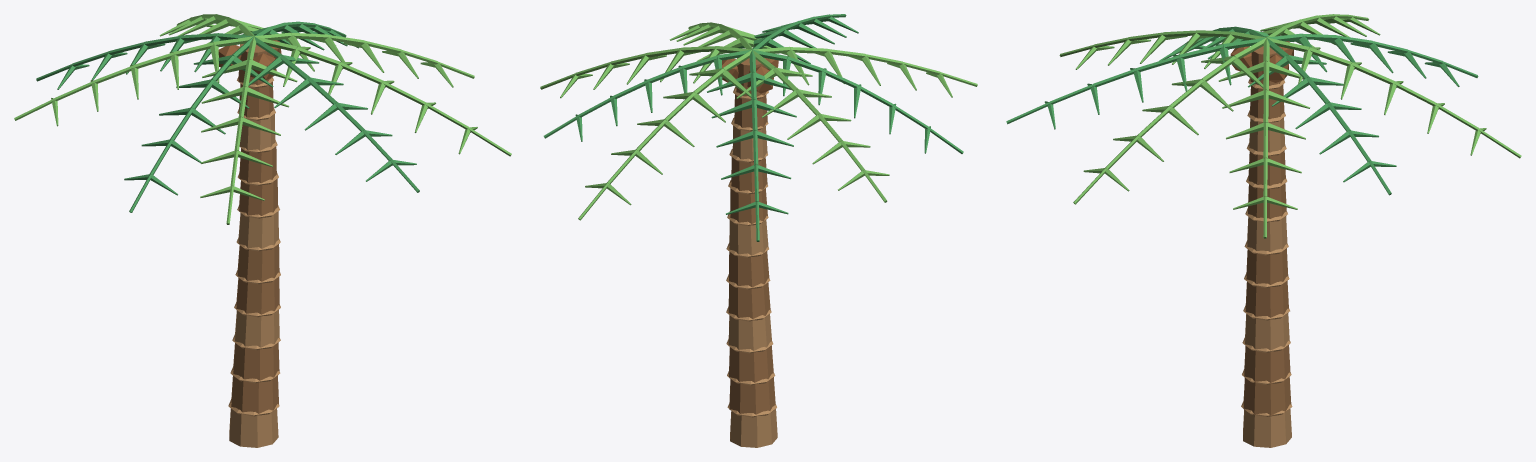
File: palmera.fbx
3 renders of one model, left to right at view 1: azimuth 30°, elevation 25°; view 2: azimuth 150°, elevation 25°; view 3: azimuth 270°, elevation 25°, orthographic. The views are drawn at different scales.
Parts seen in each view (by area): view 1: Tronco segmento 01, Tronco segmento 02, Tronco segmento 03, Tronco segmento 04, Tronco segmento 05, Tronco segmento 06, Tronco segmento 07, Tronco segmento 08, Tronco segmento 09, Tronco segmento 10, Tronco segmento 11; view 2: Tronco segmento 01, Tronco segmento 02, Tronco segmento 03, Tronco segmento 04, Tronco segmento 05, Tronco segmento 06, Tronco segmento 07, Tronco segmento 08, Tronco segmento 09, Tronco segmento 10, Tronco segmento 11; view 3: Tronco segmento 01, Tronco segmento 02, Tronco segmento 03, Tronco segmento 04, Tronco segmento 05, Tronco segmento 06, Tronco segmento 07, Tronco segmento 08, Tronco segmento 09, Tronco segmento 10, Tronco segmento 11.
Boxes of the visible parts, bbox=[...] form: Tronco segmento 01: bbox=[229, 408, 278, 447]; Tronco segmento 02: bbox=[231, 375, 278, 413]; Tronco segmento 03: bbox=[233, 342, 279, 380]; Tronco segmento 04: bbox=[235, 310, 279, 347]; Tronco segmento 05: bbox=[236, 277, 279, 314]; Tronco segmento 06: bbox=[237, 244, 279, 281]; Tronco segmento 07: bbox=[238, 211, 278, 248]; Tronco segmento 08: bbox=[239, 179, 277, 215]; Tronco segmento 09: bbox=[239, 146, 276, 183]; Tronco segmento 10: bbox=[239, 114, 275, 150]; Tronco segmento 11: bbox=[239, 82, 273, 117]; Tronco segmento 01: bbox=[730, 409, 777, 447]; Tronco segmento 02: bbox=[729, 377, 775, 414]; Tronco segmento 03: bbox=[729, 345, 773, 382]; Tronco segmento 04: bbox=[728, 314, 771, 350]; Tronco segmento 05: bbox=[728, 283, 770, 318]; Tronco segmento 06: bbox=[729, 251, 769, 287]; Tronco segmento 07: bbox=[729, 220, 768, 255]; Tronco segmento 08: bbox=[730, 188, 767, 223]; Tronco segmento 09: bbox=[731, 157, 767, 192]; Tronco segmento 10: bbox=[732, 125, 767, 160]; Tronco segmento 11: bbox=[734, 94, 767, 128]; Tronco segmento 01: bbox=[1243, 409, 1291, 447]; Tronco segmento 02: bbox=[1243, 377, 1291, 415]; Tronco segmento 03: bbox=[1244, 345, 1290, 383]; Tronco segmento 04: bbox=[1245, 313, 1289, 351]; Tronco segmento 05: bbox=[1245, 281, 1288, 319]; Tronco segmento 06: bbox=[1246, 248, 1288, 284]; Tronco segmento 07: bbox=[1247, 216, 1287, 251]; Tronco segmento 08: bbox=[1248, 183, 1286, 218]; Tronco segmento 09: bbox=[1248, 151, 1285, 185]; Tronco segmento 10: bbox=[1249, 118, 1285, 152]; Tronco segmento 11: bbox=[1250, 85, 1284, 119].
Size of the model in its own units: 659 by 617 by 721.
